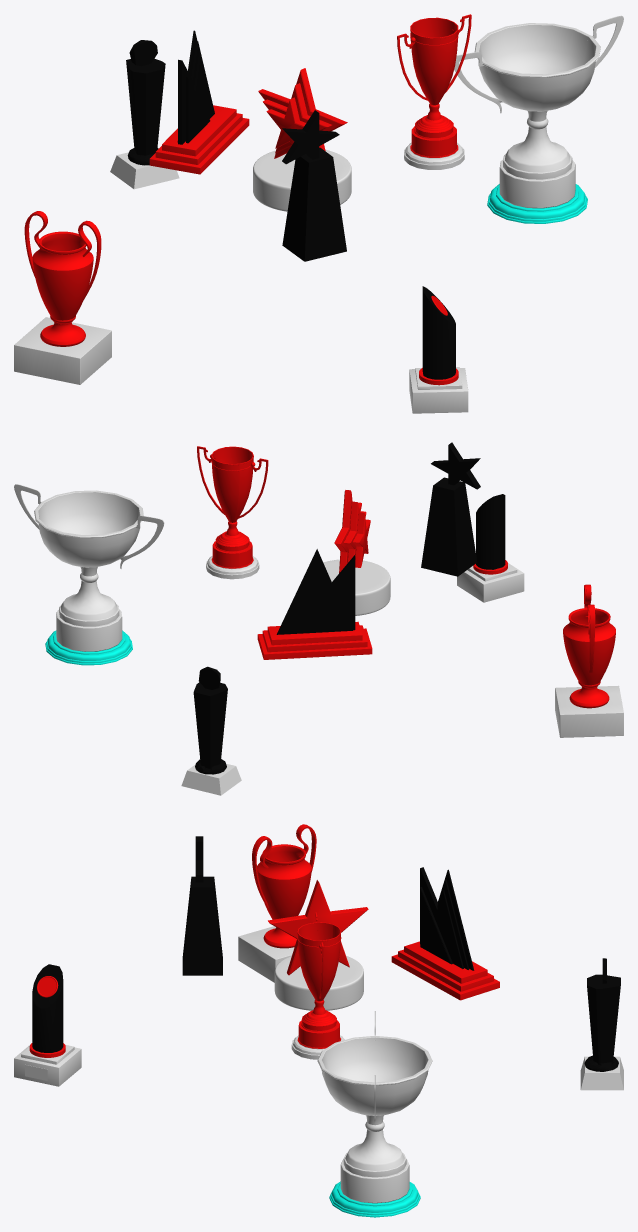
The picture shows the model from 3 angles, top to bottom: view 1: azimuth 30°, elevation 25°; view 2: azimuth 150°, elevation 25°; view 3: azimuth 270°, elevation 25°; orthographic projection. The views are drawn at different scales.
Visible parts, largest first — view 1: 奖杯06, 奖杯08, 奖杯03, 奖杯07, 奖杯01, 奖杯02, 奖杯04, 奖杯05; view 2: 奖杯06, 奖杯01, 奖杯08, 奖杯03, 奖杯07, 奖杯04, 奖杯05, 奖杯02; view 3: 奖杯06, 奖杯01, 奖杯08, 奖杯02, 奖杯05, 奖杯07, 奖杯04, 奖杯03.
Boxes of the visible parts, bbox=[...] form: 奖杯06: bbox=[454, 15, 623, 223]; 奖杯08: bbox=[14, 211, 111, 384]; 奖杯03: bbox=[282, 110, 346, 261]; 奖杯07: bbox=[397, 14, 471, 169]; 奖杯01: bbox=[149, 30, 249, 174]; 奖杯02: bbox=[253, 68, 351, 211]; 奖杯04: bbox=[110, 40, 179, 189]; 奖杯05: bbox=[409, 286, 468, 413]; 奖杯06: bbox=[14, 484, 164, 665]; 奖杯01: bbox=[257, 549, 372, 659]; 奖杯08: bbox=[555, 584, 623, 737]; 奖杯03: bbox=[421, 442, 480, 576]; 奖杯07: bbox=[197, 446, 268, 579]; 奖杯04: bbox=[181, 666, 241, 795]; 奖杯05: bbox=[457, 494, 524, 602]; 奖杯02: bbox=[323, 490, 390, 615]; 奖杯06: bbox=[317, 1011, 432, 1217]; 奖杯01: bbox=[391, 867, 499, 1000]; 奖杯08: bbox=[238, 824, 316, 982]; 奖杯02: bbox=[268, 880, 368, 1010]; 奖杯05: bbox=[14, 964, 81, 1086]; 奖杯07: bbox=[291, 912, 344, 1059]; 奖杯04: bbox=[580, 958, 623, 1090]; 奖杯03: bbox=[182, 836, 222, 975].
Bounding box in the file's own units: 118 × 41.41 × 106.
